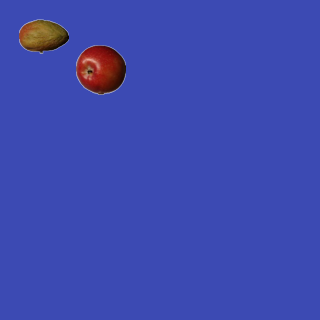Apple Braeburn: (75, 44, 125, 94)
Papaya: (18, 11, 68, 61)
